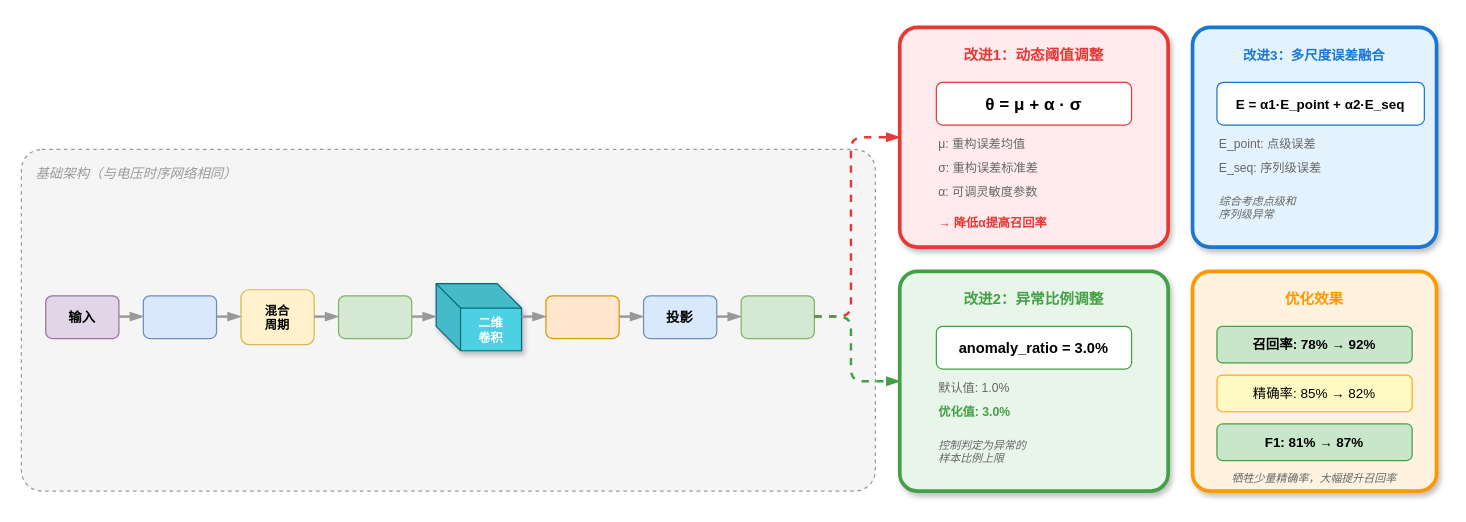
This 1466x522 diagram has some shape labels left out. The shapes that lost their labels are listed below. From the top down, each one's centre as x and y in pixels, then its label:
At pixel 179 317: "嵌入".
At pixel 374 317: "重组".
At pixel 582 317: "聚合".
At pixel 777 317: "重构".
